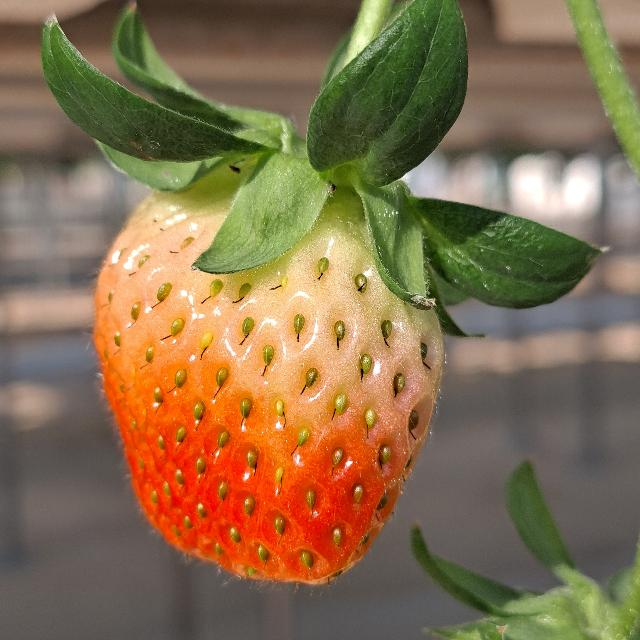Health_75: (93, 152, 443, 584)
